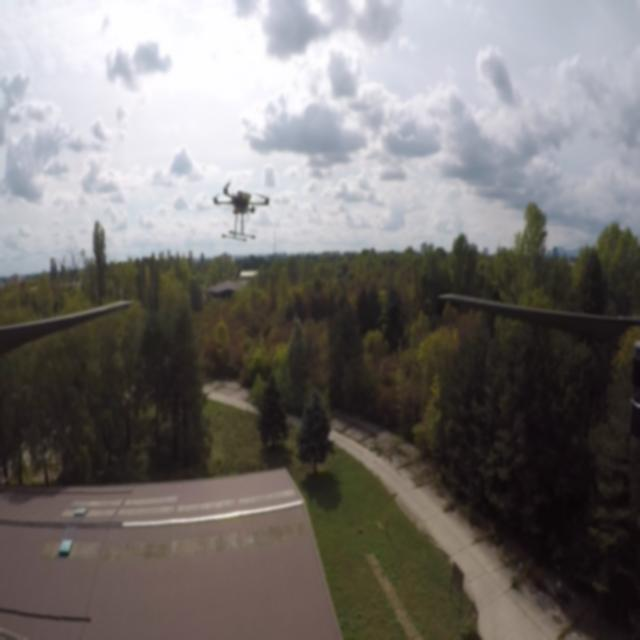UAV: (205, 172, 277, 244)
